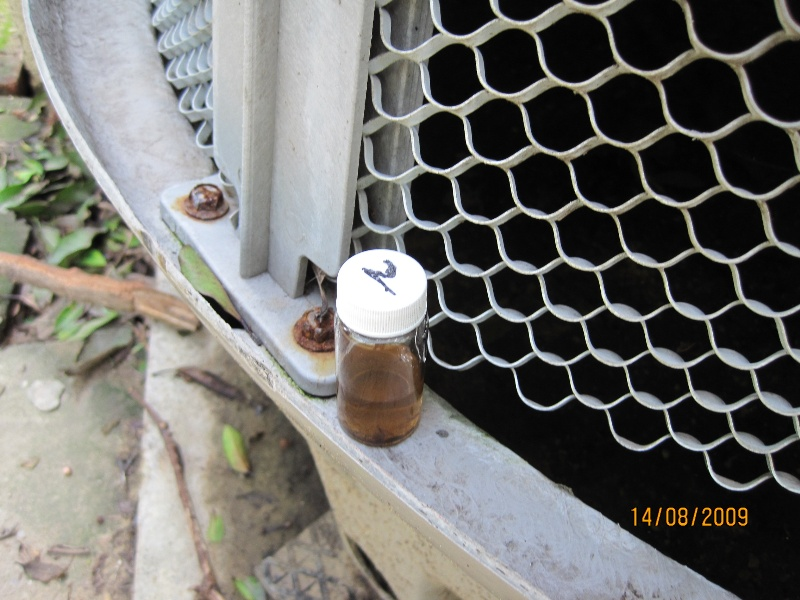bottle: (333, 249, 430, 446)
